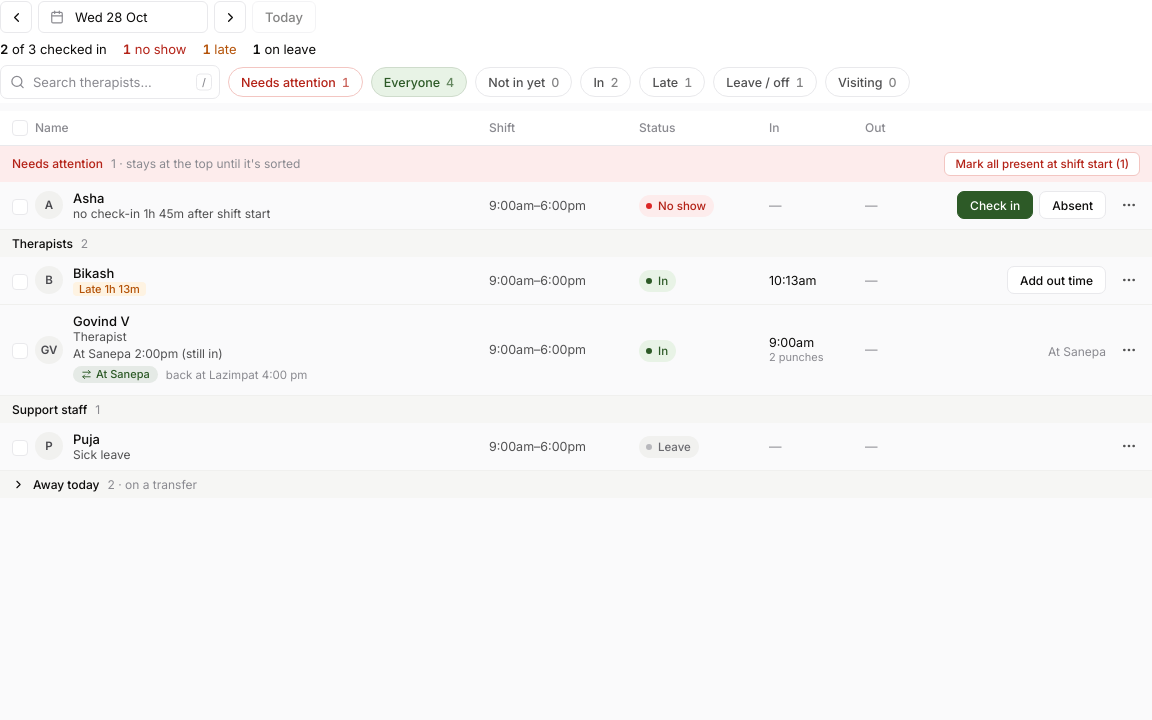
AttendancePanel › the side panel lists the punches (branch + times), with Add punch
This screenshot has width=1152, height=720.
Expected: the text "Govind V" is shown, 73,312 -> 130,328
Click the button named "More for Govind V" at (1129, 350), box 1115,336 -> 1143,364
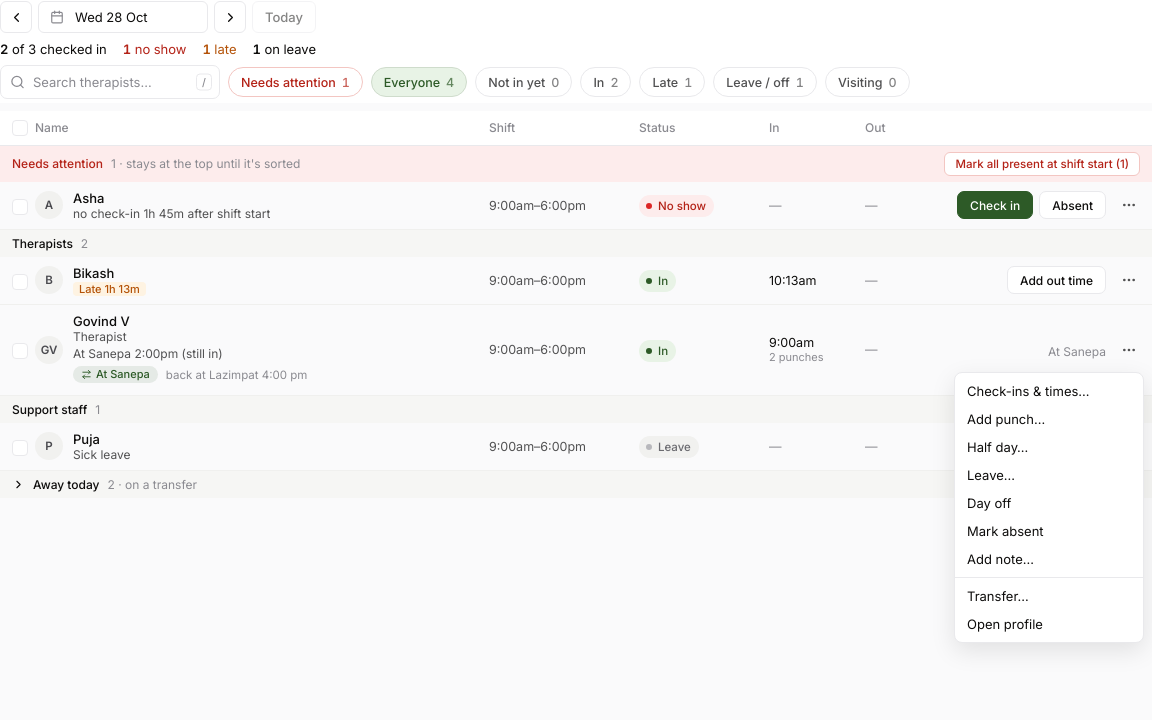
Click the button "Check-ins & times…" at (1049, 390), box 955,376 -> 1143,404
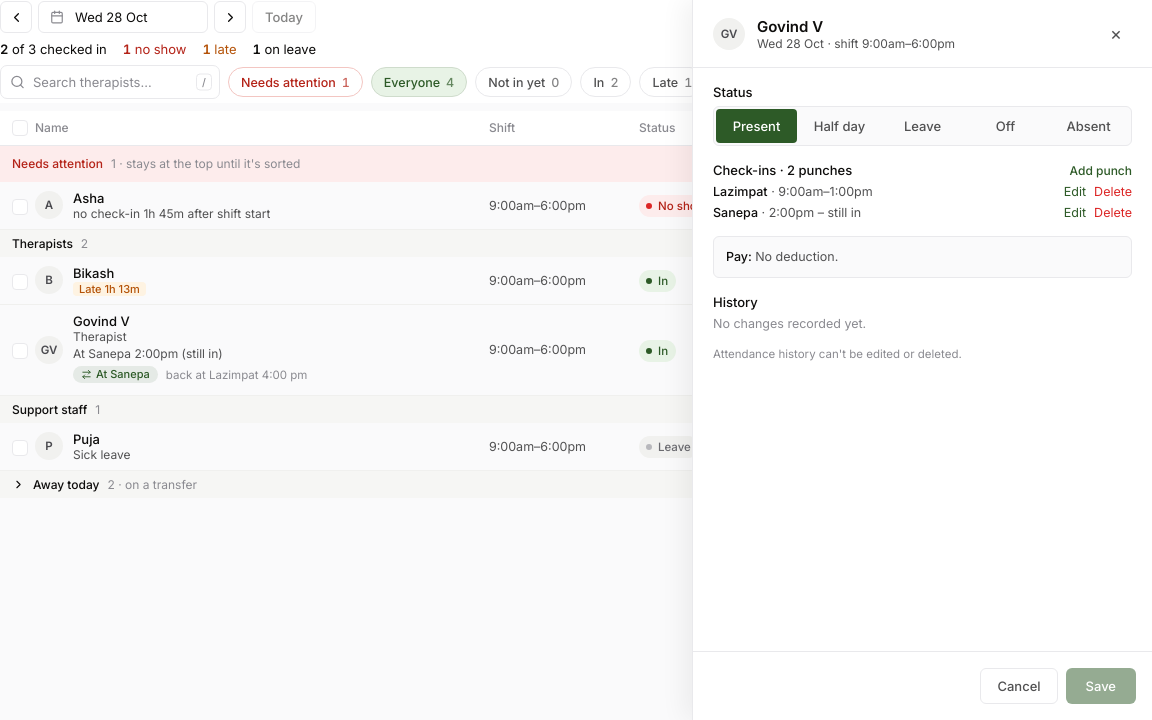
Expected: the element with test id "attendance-punches" is shown, 713,162 -> 1132,220
Expected: the number of list items is 2, 713,184 -> 1132,199; 713,205 -> 1132,220
Expected: the list item "Sanepa · 2:00pm – still in Edit Delete" is shown, 713,205 -> 1132,220
